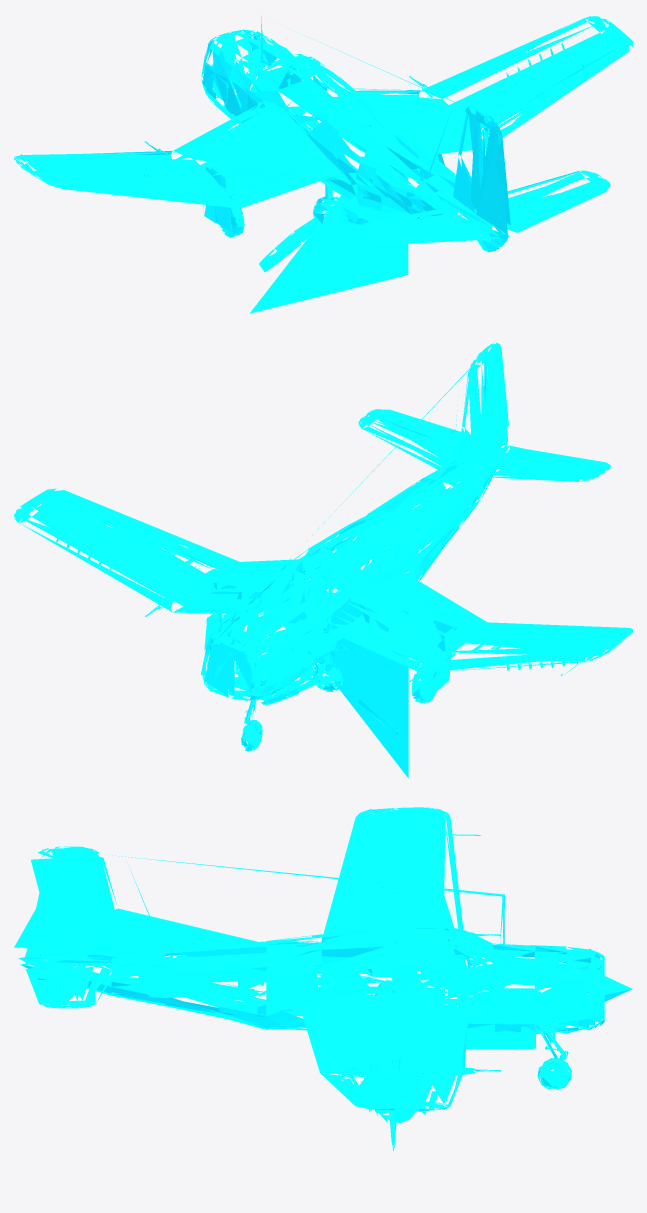
The model's file is PVAB710.glb.
The picture shows the model from 3 angles, top to bottom: view 1: azimuth 30°, elevation 25°; view 2: azimuth 150°, elevation 25°; view 3: azimuth 270°, elevation 25°; orthographic projection. The views are drawn at different scales.
Visible parts, largest first — view 1: misc; view 2: misc; view 3: misc.
Part boxes in pixels (box(x1,y1,x2,y2)): misc: box(14, 15, 632, 313); misc: box(14, 342, 632, 778); misc: box(14, 807, 632, 1150).
Size of the model in its own units: 0.9015 by 0.4336 by 0.7816.
